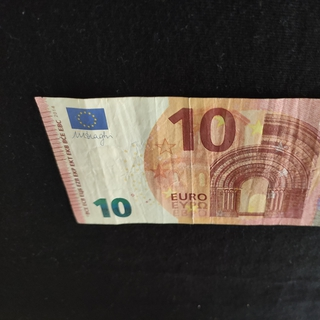10EUROFront: (34, 95, 320, 227)
